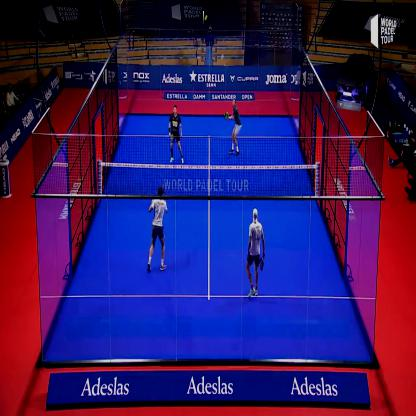ball: (204, 10, 210, 26)
